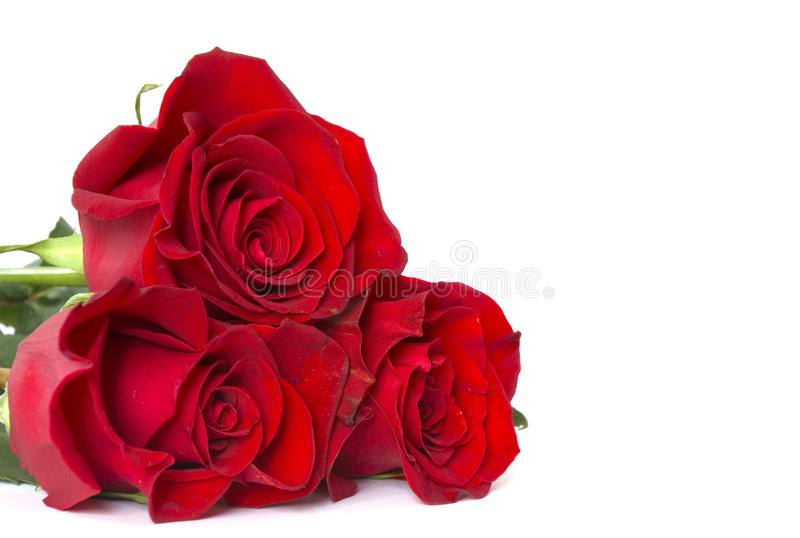RedRose: (101, 63, 382, 303), (32, 306, 323, 486), (352, 273, 541, 477)
